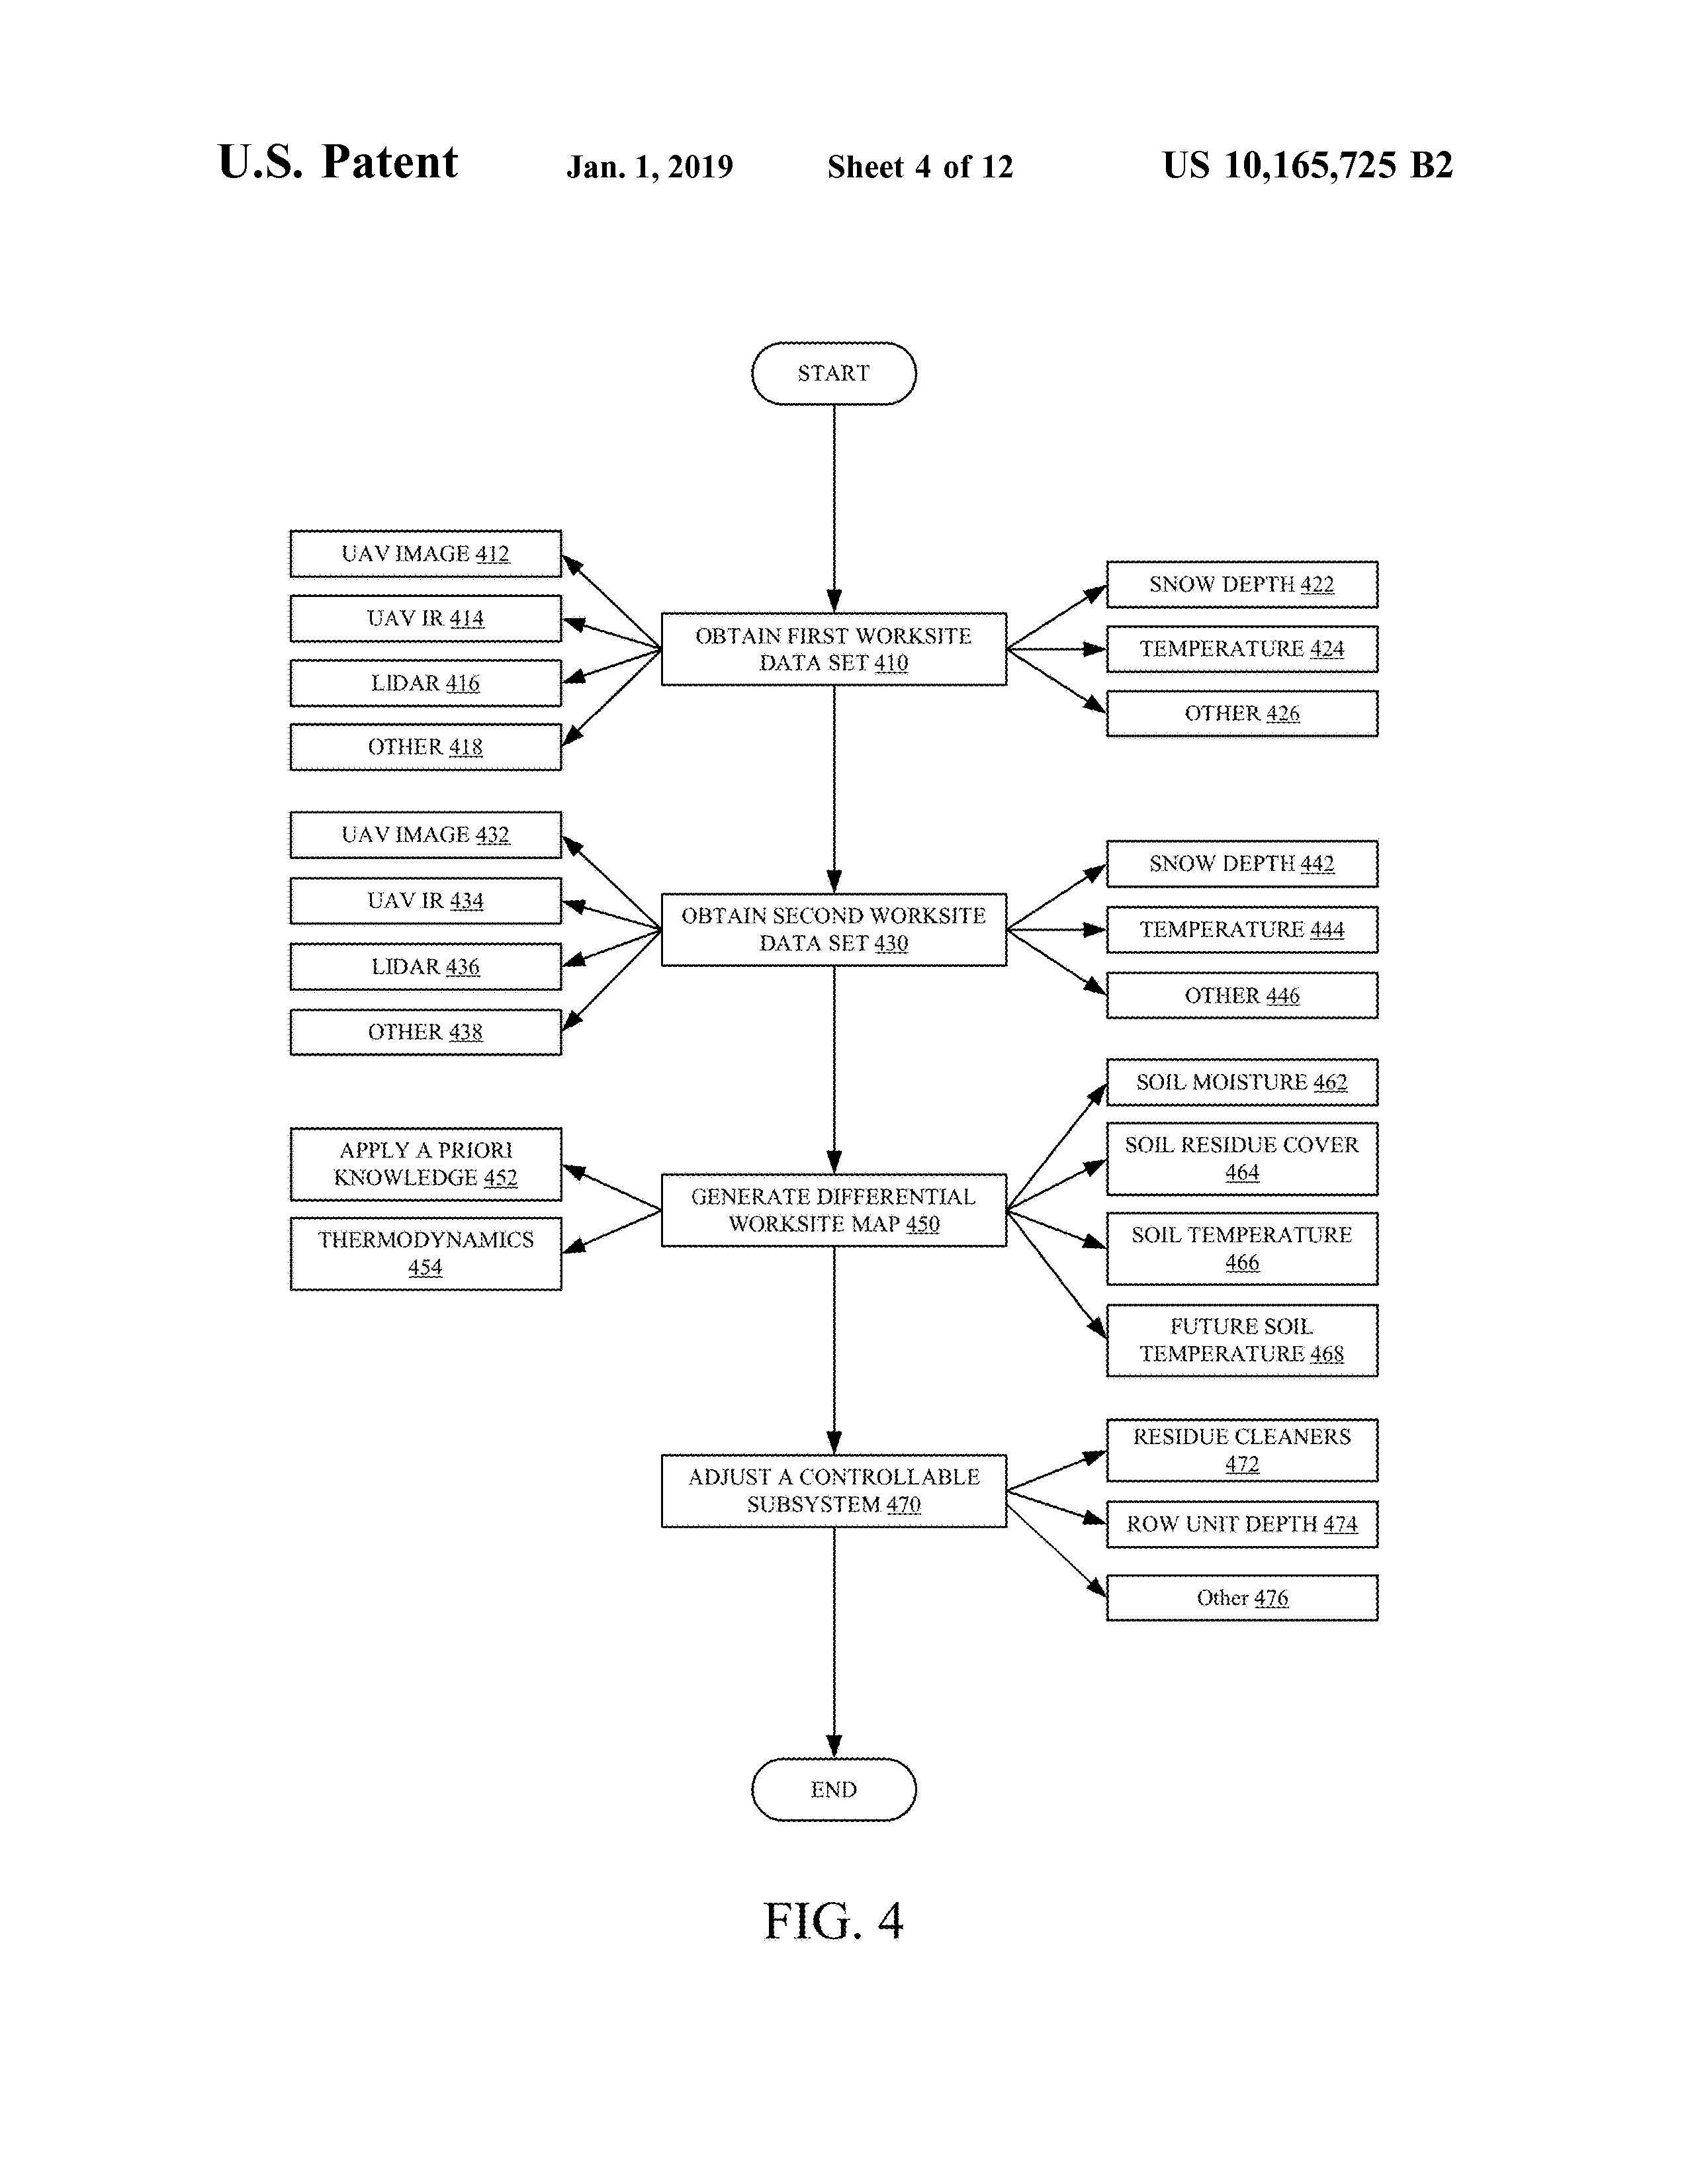patent image: (255, 316, 1421, 2000)
